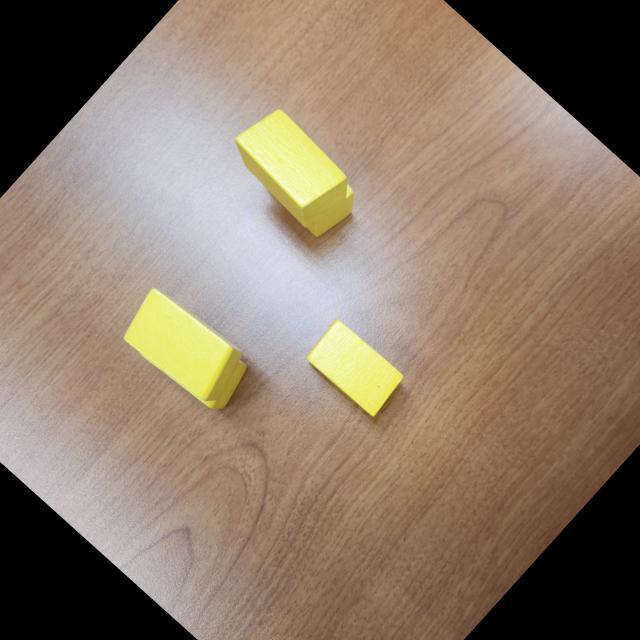yellow: (219, 97, 361, 235), (112, 276, 253, 414), (136, 304, 256, 421), (255, 137, 366, 246), (300, 314, 409, 419)
